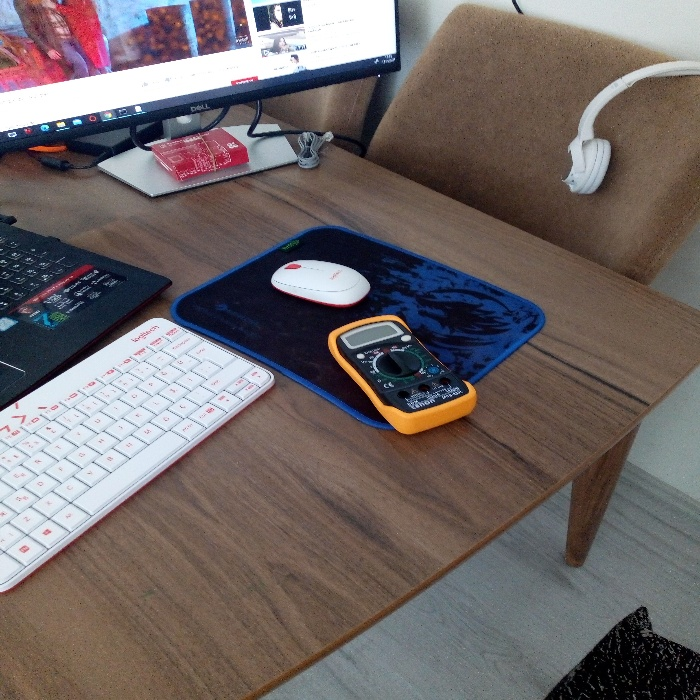multimetre: (331, 309, 483, 434)
